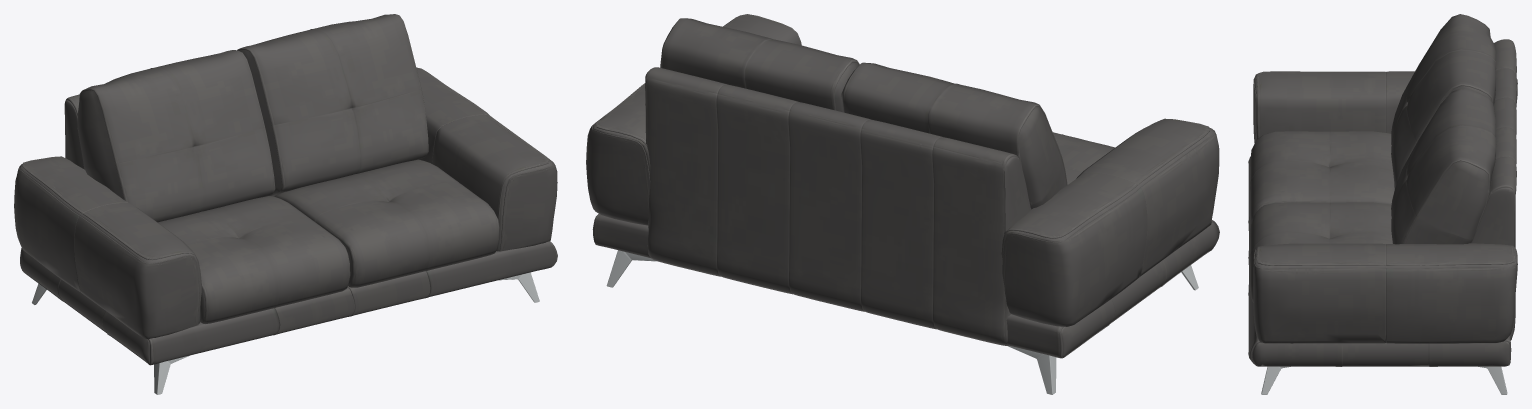
Rendered from B07HPNZC2P.glb.
3 views of the same model, side by side, from view 1: azimuth 30°, elevation 25°; view 2: azimuth 150°, elevation 25°; view 3: azimuth 270°, elevation 25° (orthographic). The views are drawn at different scales.
Visible parts, largest first — view 1: RootNode; view 2: RootNode; view 3: RootNode.
Boxes of the visible parts, x1,y1,x2,y2 form: RootNode: [14, 14, 557, 394]; RootNode: [586, 14, 1219, 394]; RootNode: [1248, 14, 1517, 394].
Size of the model in its own units: 1.81 by 0.9073 by 1.02.
Materials: 1 (1 with a texture image).
